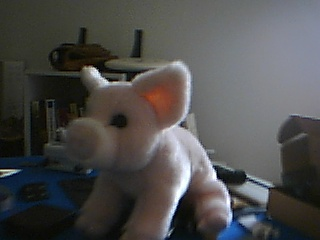piggy: (63, 59, 235, 240)
